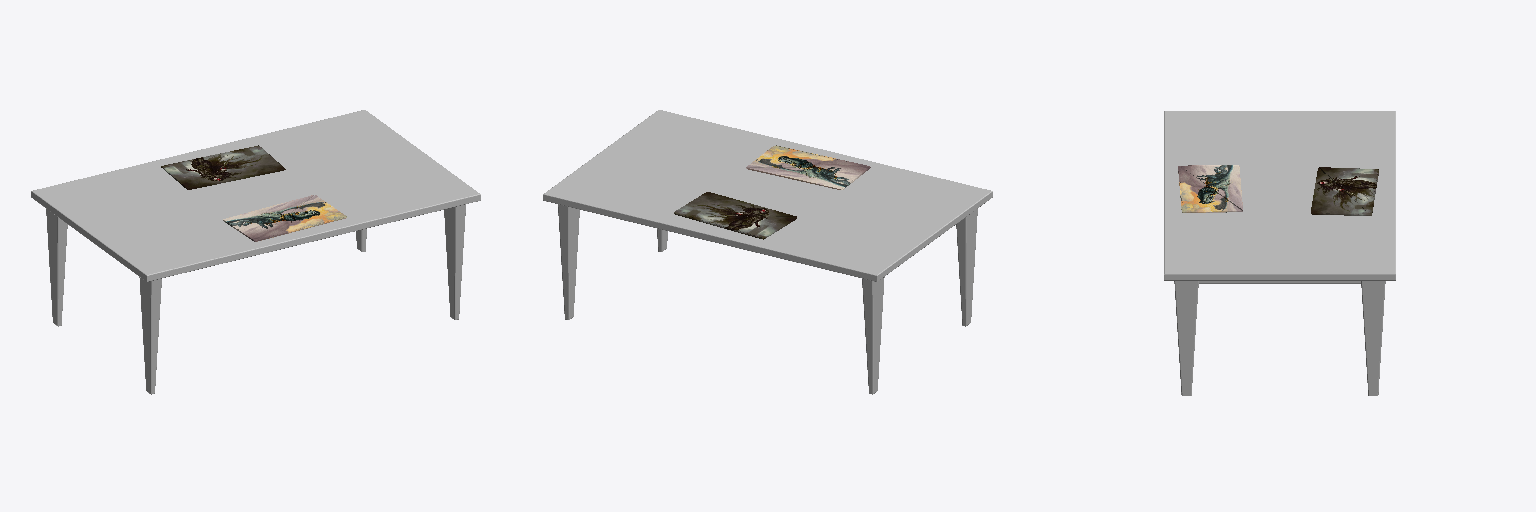
3 views of the same model, side by side, from view 1: azimuth 30°, elevation 25°; view 2: azimuth 150°, elevation 25°; view 3: azimuth 270°, elevation 25° (orthographic).
Parts seen in each view (by area): view 1: Cube, Cube.001, Cube.002; view 2: Cube, Cube.001, Cube.002; view 3: Cube, Cube.002, Cube.001.
Part boxes in pixels (x1,y1,x2,y2): Cube: (31,110,480,394); Cube.001: (161,145,285,189); Cube.002: (223,195,346,241); Cube: (543,110,992,394); Cube.001: (674,192,796,239); Cube.002: (746,145,870,189); Cube: (1164,111,1395,395); Cube.002: (1178,165,1242,212); Cube.001: (1311,167,1378,215).
Bounding box in the file's own units: 2 × 0.7488 × 1.2.
3 materials, 2 textured.